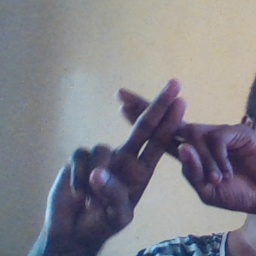F: (79, 72, 235, 199)
